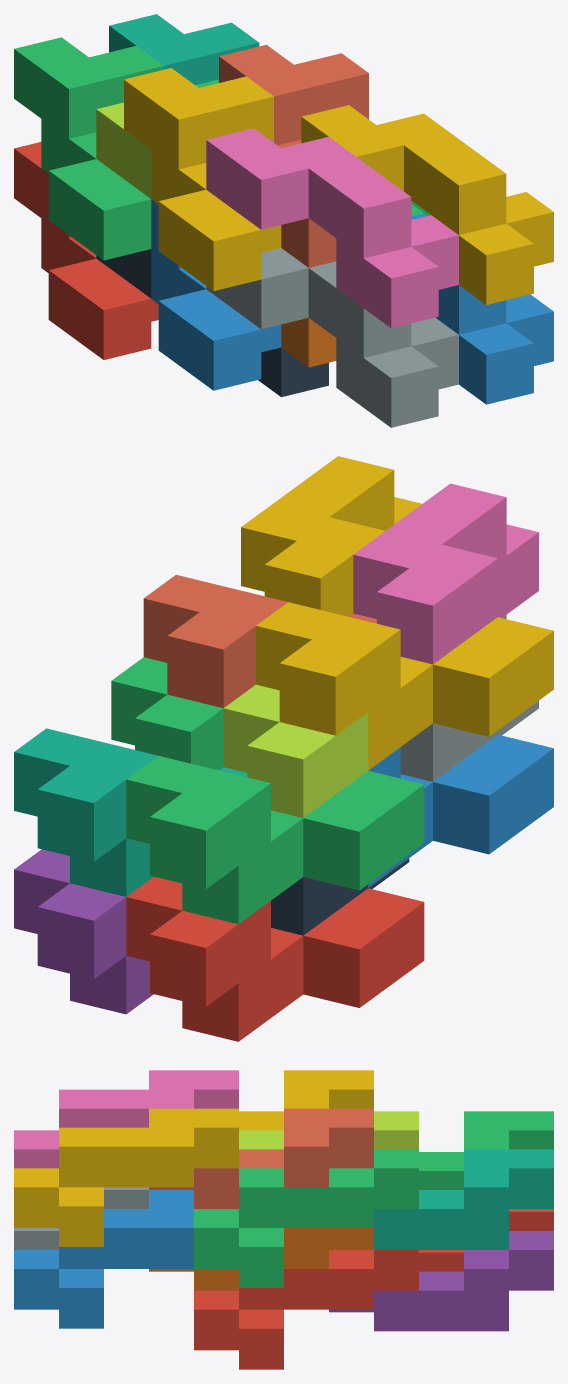
File: tiling.obj
3 views of the same model, one above another, from view 1: azimuth 30°, elevation 25°; view 2: azimuth 150°, elevation 25°; view 3: azimuth 270°, elevation 25° (orthographic). The views are drawn at different scales.
Visible parts, largest first — view 1: copy_2_domain_4, copy_2_domain_8, copy_1_domain_4, copy_1_domain_3, copy_2_domain_2, copy_1_domain_1, copy_1_domain_2, copy_1_domain_8, copy_2_domain_6, copy_1_domain_7, copy_2_domain_1, copy_2_domain_3 (+1 smaller); view 2: copy_1_domain_3, copy_1_domain_4, copy_1_domain_1, copy_2_domain_4, copy_2_domain_8, copy_1_domain_7, copy_1_domain_5, copy_1_domain_8, copy_1_domain_2, copy_2_domain_3, copy_2_domain_7, copy_2_domain_2 (+1 smaller); view 3: copy_2_domain_8, copy_2_domain_7, copy_2_domain_5, copy_2_domain_6, copy_1_domain_7, copy_1_domain_5, copy_1_domain_8, copy_2_domain_4, copy_1_domain_3, copy_1_domain_4, copy_1_domain_6, copy_2_domain_3 (+2 smaller).
Part boxes in pixels (box(x1,y1,x2,y2)): copy_2_domain_4: box(206, 128, 458, 328); copy_2_domain_8: box(301, 105, 553, 304); copy_1_domain_4: box(124, 68, 281, 290); copy_1_domain_3: box(14, 37, 163, 260); copy_2_domain_2: box(206, 248, 458, 427); copy_1_domain_1: box(14, 142, 158, 359); copy_1_domain_2: box(151, 199, 281, 390); copy_1_domain_8: box(219, 44, 368, 267); copy_2_domain_6: box(411, 213, 553, 404); copy_1_domain_7: box(109, 14, 259, 84); copy_2_domain_1: box(96, 249, 328, 397); copy_2_domain_3: box(96, 102, 151, 198); copy_1_domain_3: box(126, 756, 424, 924); copy_1_domain_4: box(256, 602, 553, 770); copy_1_domain_1: box(126, 876, 424, 1041); copy_2_domain_4: box(353, 483, 538, 664); copy_2_domain_8: box(241, 456, 422, 616); copy_1_domain_7: box(14, 728, 247, 896); copy_1_domain_5: box(14, 849, 153, 1014); copy_1_domain_8: box(143, 574, 376, 708); copy_1_domain_2: box(368, 734, 553, 887); copy_2_domain_3: box(223, 684, 368, 817); copy_2_domain_7: box(111, 657, 223, 770); copy_2_domain_2: box(400, 615, 538, 781); copy_2_domain_8: box(14, 1108, 238, 1246); copy_2_domain_7: box(194, 1149, 418, 1287); copy_2_domain_5: box(194, 1250, 418, 1369); copy_2_domain_6: box(14, 1190, 193, 1328); copy_1_domain_7: box(374, 1149, 553, 1249); copy_1_domain_5: box(329, 1231, 553, 1331); copy_1_domain_8: box(149, 1108, 373, 1208); copy_2_domain_4: box(14, 1070, 238, 1168); copy_1_domain_3: box(419, 1111, 553, 1189); copy_1_domain_4: box(239, 1070, 373, 1130); copy_1_domain_6: box(149, 1228, 373, 1290); copy_2_domain_3: box(239, 1111, 418, 1149).
Size of the model in its own units: 6 by 5 by 12.
